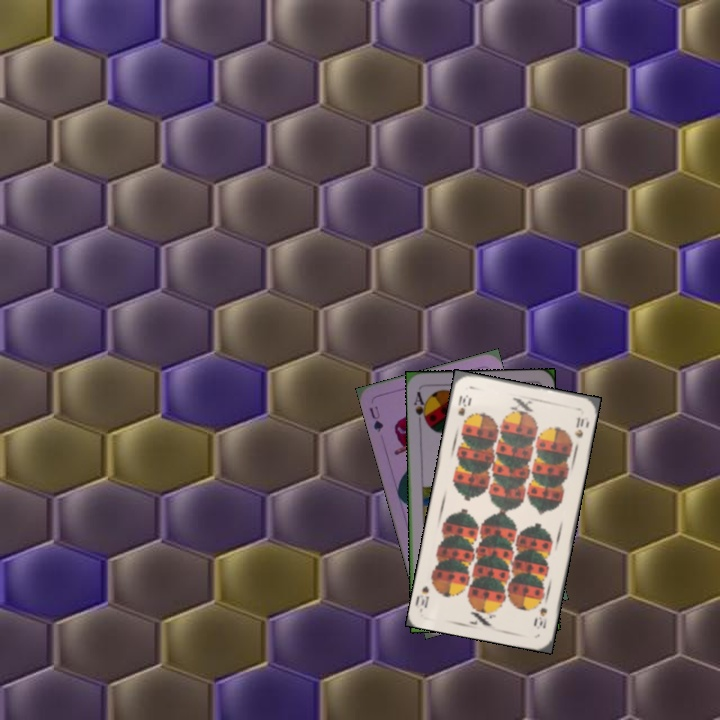GU: (365, 402, 386, 435)
S10: (454, 390, 473, 419), (532, 604, 550, 632)
SA: (410, 388, 430, 427)
